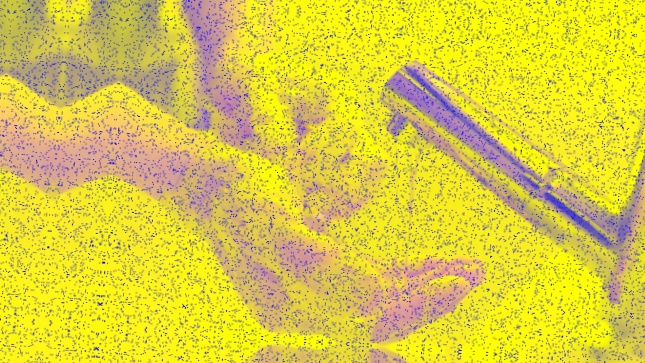washing hand: (157, 18, 644, 362)
